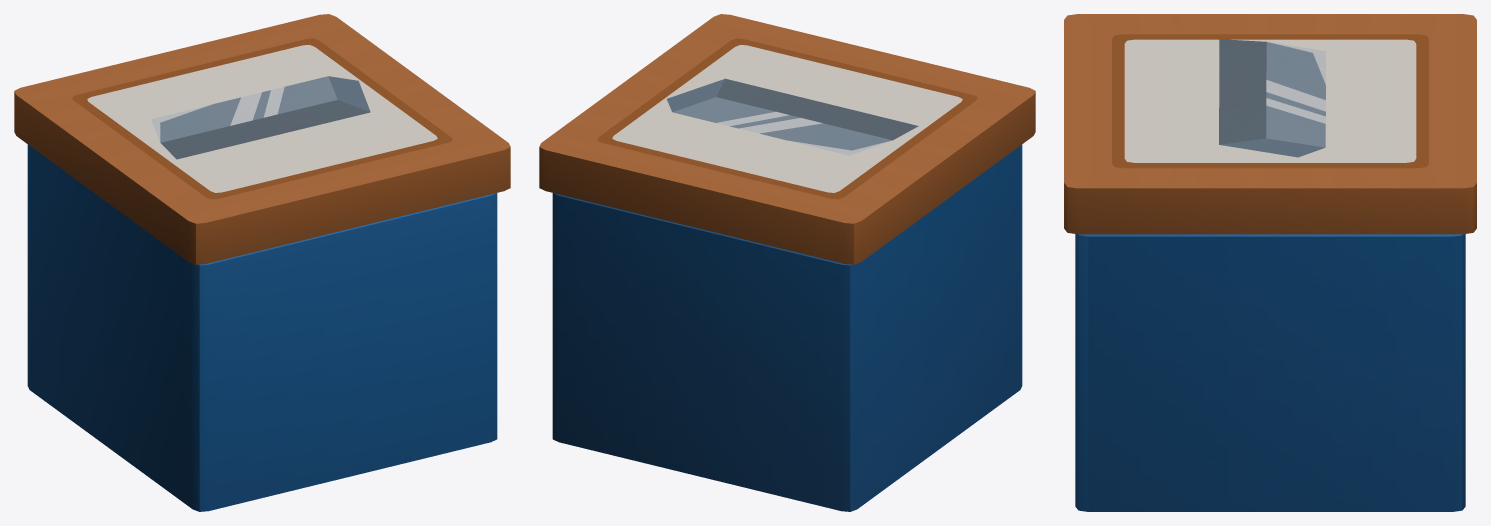
Rendered from ItemBoxA.FBX.
3 renders of one model, left to right at view 1: azimuth 30°, elevation 25°; view 2: azimuth 150°, elevation 25°; view 3: azimuth 270°, elevation 25°, orthographic. The views are drawn at different scales.
Parts seen in each view (by area): view 1: ItemBoxA; view 2: ItemBoxA; view 3: ItemBoxA.
Boxes of the visible parts, x1,y1,x2,y2 form: ItemBoxA: (14, 14, 510, 511); ItemBoxA: (539, 14, 1035, 511); ItemBoxA: (1064, 14, 1476, 511).
Size of the model in its own units: 0.9517 by 0.8422 by 0.9517.
